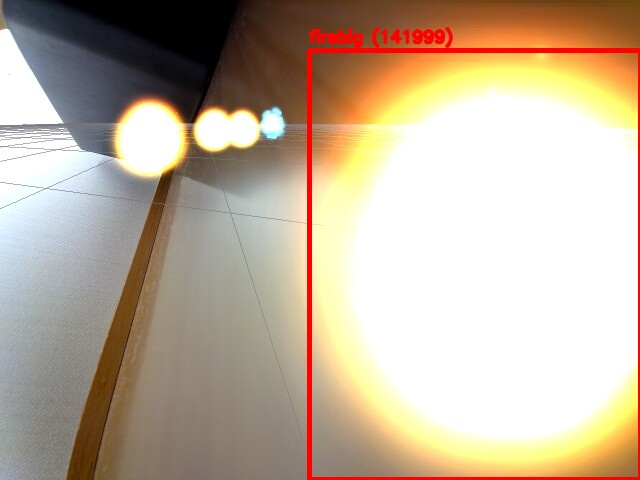firebig: (309, 50, 640, 479)
